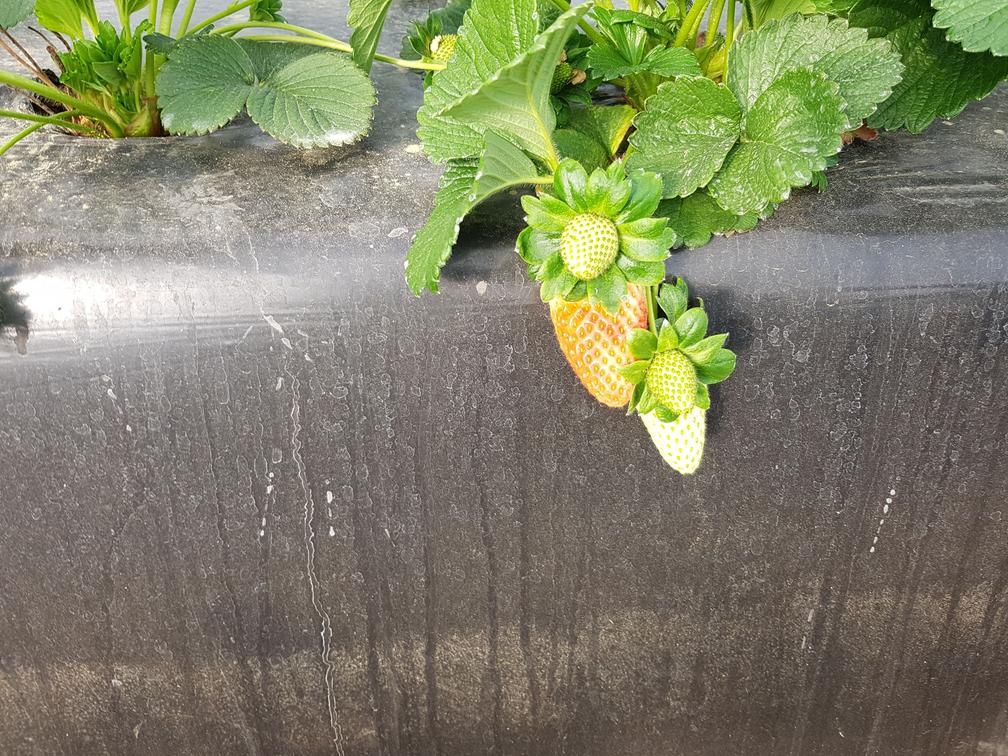Ripe: (542, 288, 659, 412)
Unripe: (554, 201, 627, 279), (647, 350, 705, 422)
